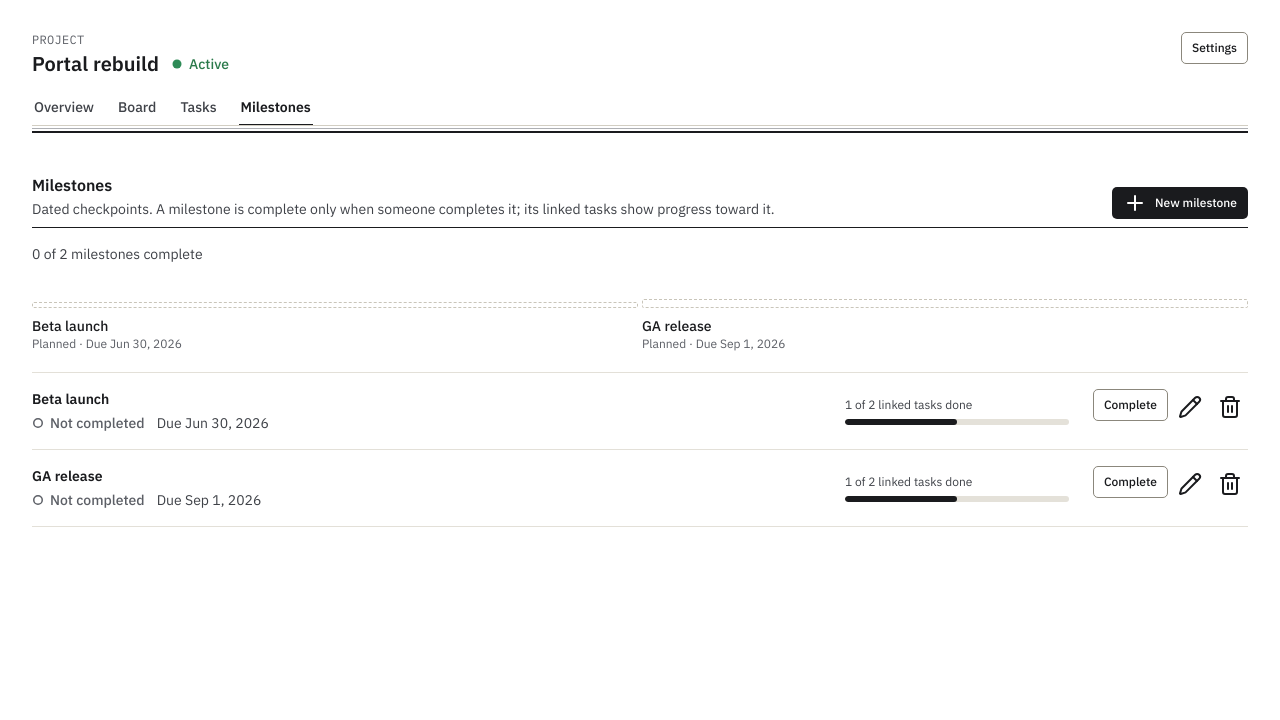
Test: opens the edit dialog prefilled for the row that was clicked, independent of other rows
Click the button named "Edit Beta launch". click: (1190, 407)
box: [1172,389,1208,425]
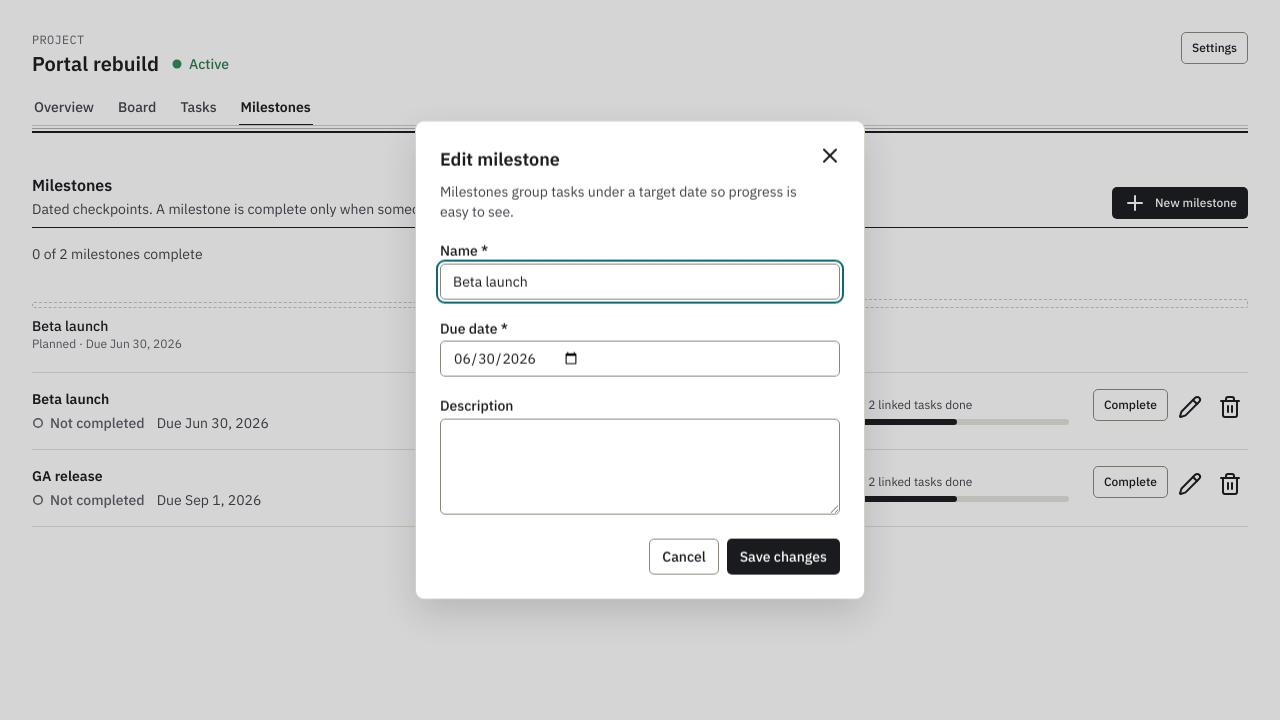
Result: the dialog "Edit milestone" is shown at [416,122,864,598]
Result: the field labelled "Name *" holds "Beta launch" at [440,263,840,299]
Press Escape
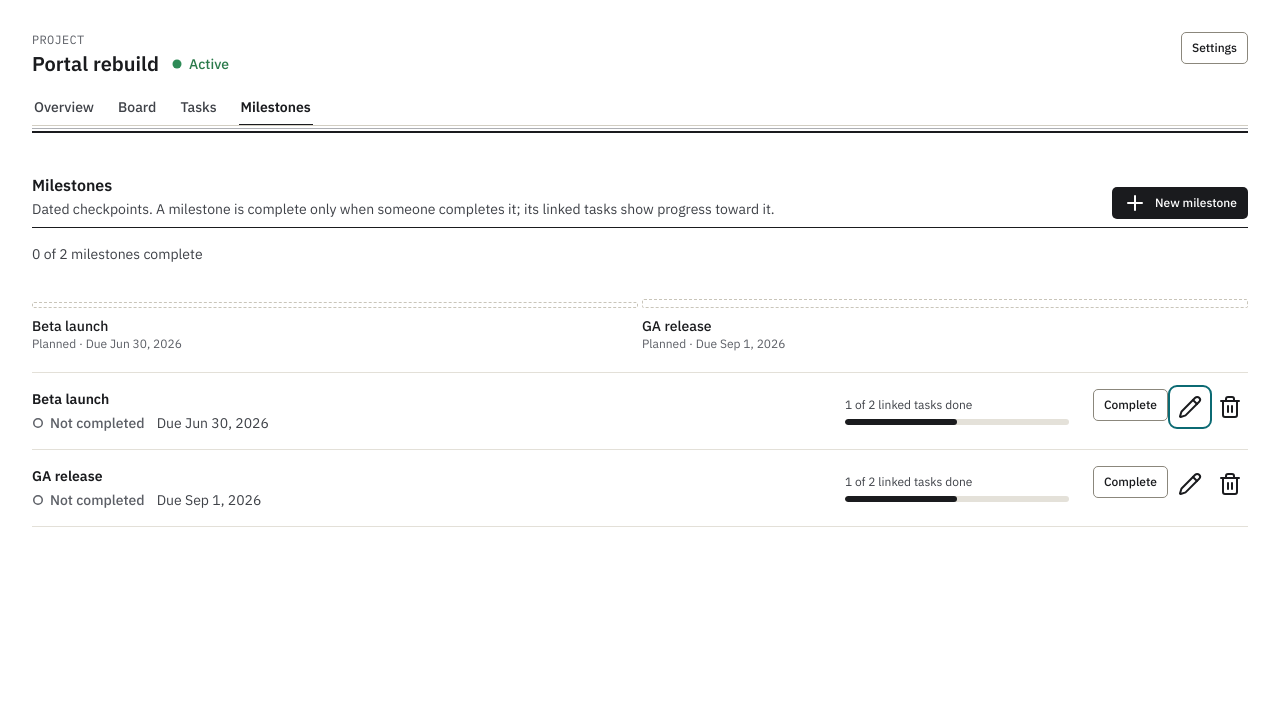
Click the button named "Edit GA release". click: (1190, 484)
box: [1172,466,1208,502]
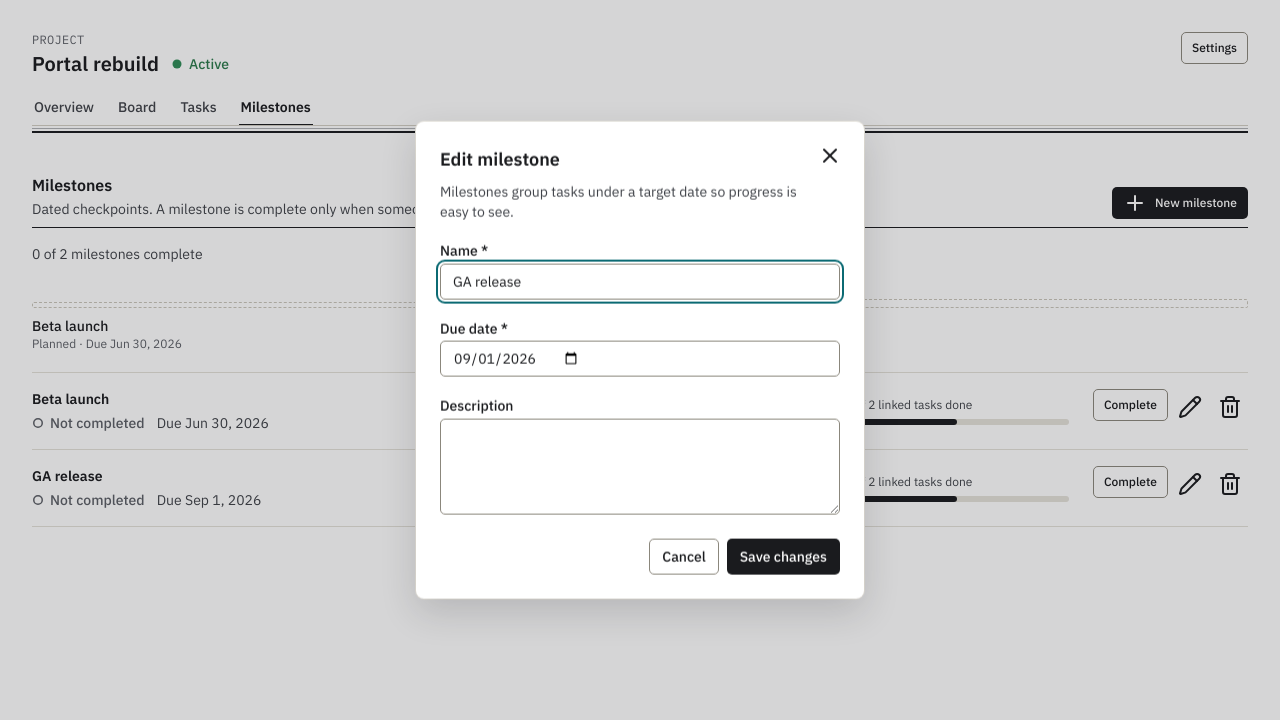
Result: the field labelled "Name *" holds "GA release" at [440,263,840,299]
Result: the date field labelled "Due date *" holds "2026-09-01" at [440,341,840,377]
